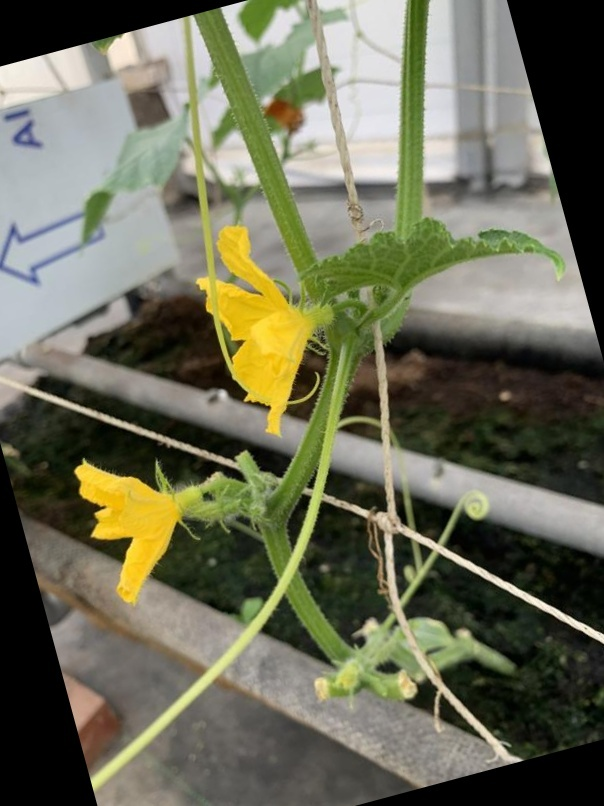flowering: (195, 216, 315, 430), (75, 449, 212, 604)
